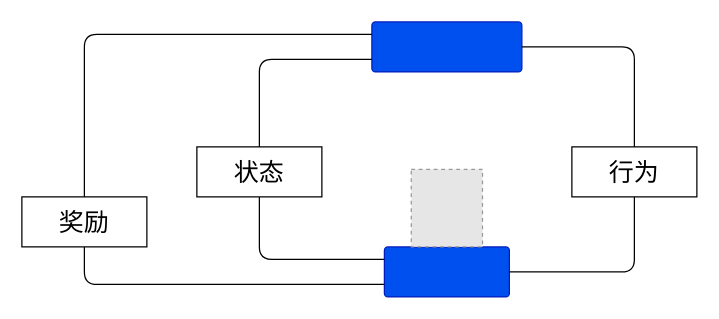
This 719x319 diagram has some shape labels left out. Grey dashed boxes stand in for pictures. The shapes that lost their labels are listed below. From the top down, each one's centre as x and y in pixels, then its label:
At point (446, 46): "环境".
At point (446, 271): "智能体".
